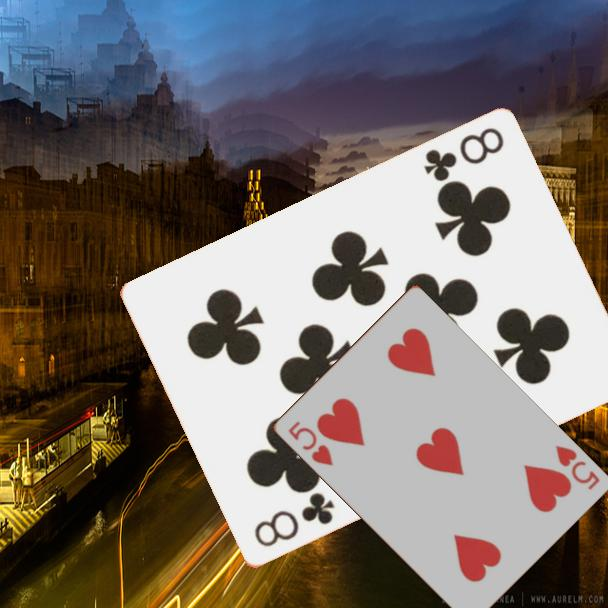c08: (250, 489, 338, 551), (420, 124, 507, 185)
h05: (284, 417, 336, 469), (552, 442, 603, 493)
